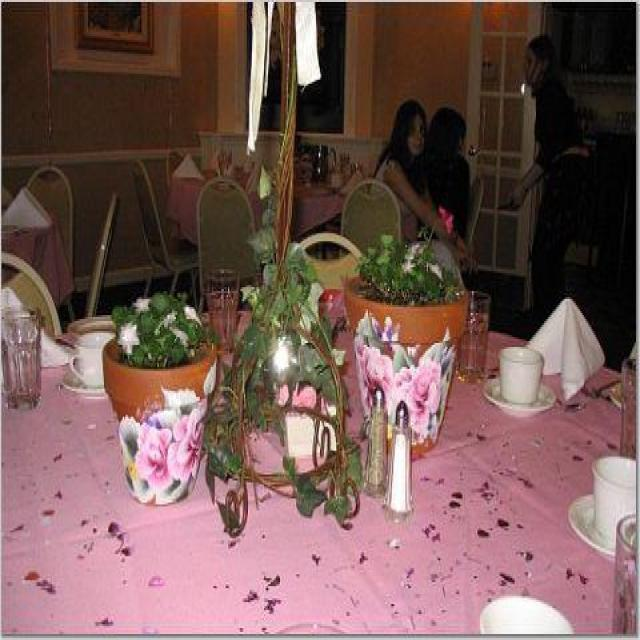Cup: (453, 280, 493, 389), (0, 310, 47, 402), (201, 263, 249, 346), (210, 141, 238, 182), (309, 143, 332, 180)
People: (512, 32, 604, 300), (380, 91, 429, 229), (435, 99, 468, 220)
chair: (191, 176, 267, 291), (75, 191, 136, 306), (124, 155, 182, 272), (30, 157, 82, 262), (339, 176, 409, 251)
